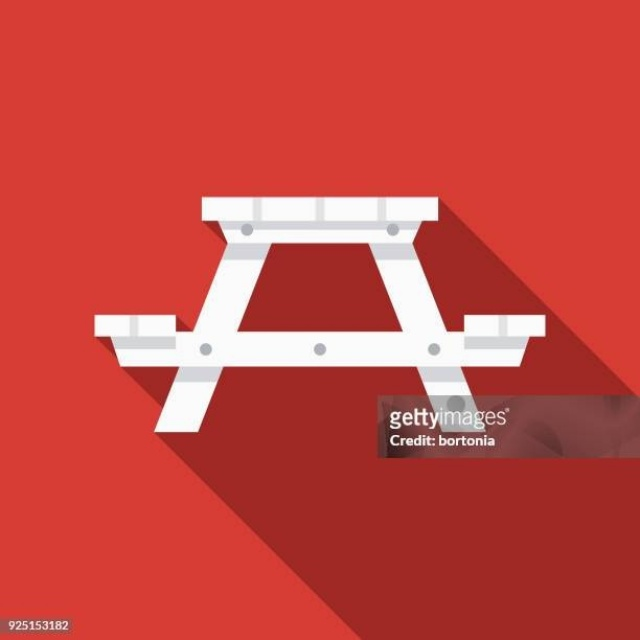obstacle: (95, 197, 545, 432)
